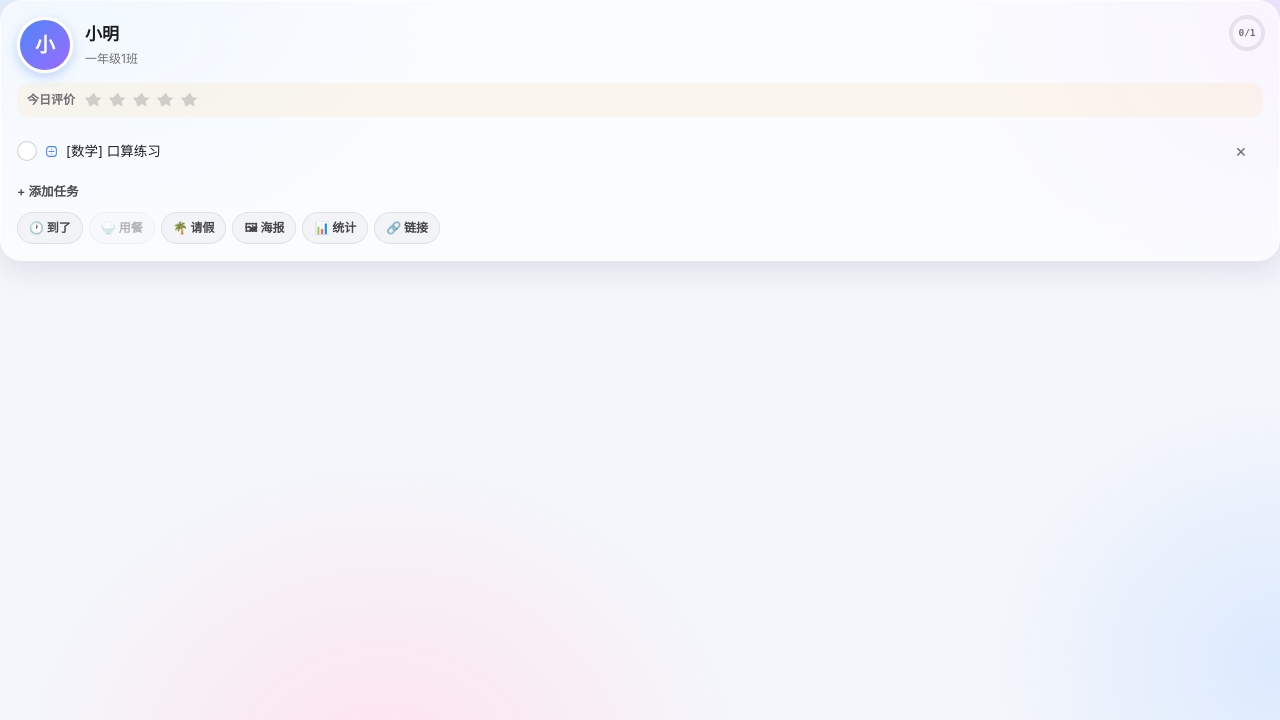
Test: StudentCard task deletion › asks for confirmation before deleting a task, and does nothing on cancel
This screenshot has width=1280, height=720.
Click the button named "删除口算练习". click: (1241, 151)
box: [1219,129,1263,173]
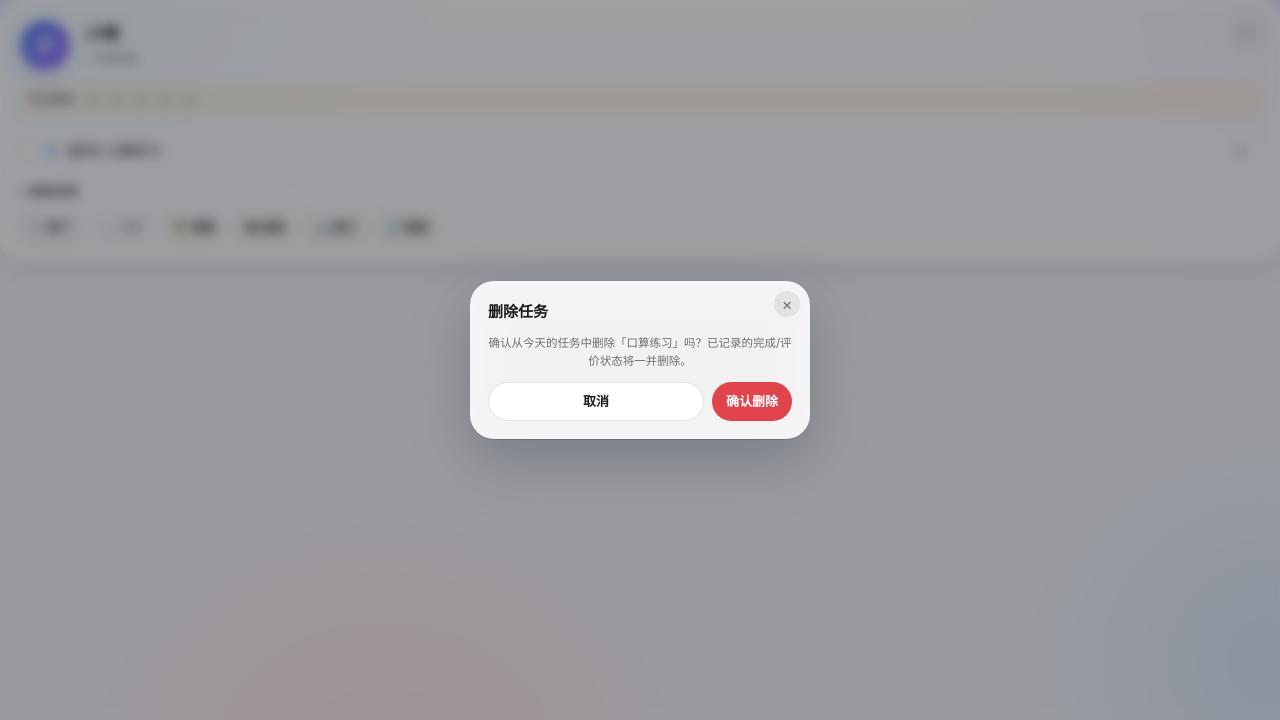
Check: the text "确认从今天的任务中删除「口算练习」吗？已记录的完成/评价状态将一并删除。" is shown, box [488,335,792,370]
Click the button "取消". click: (596, 402)
box: [488,382,704,421]
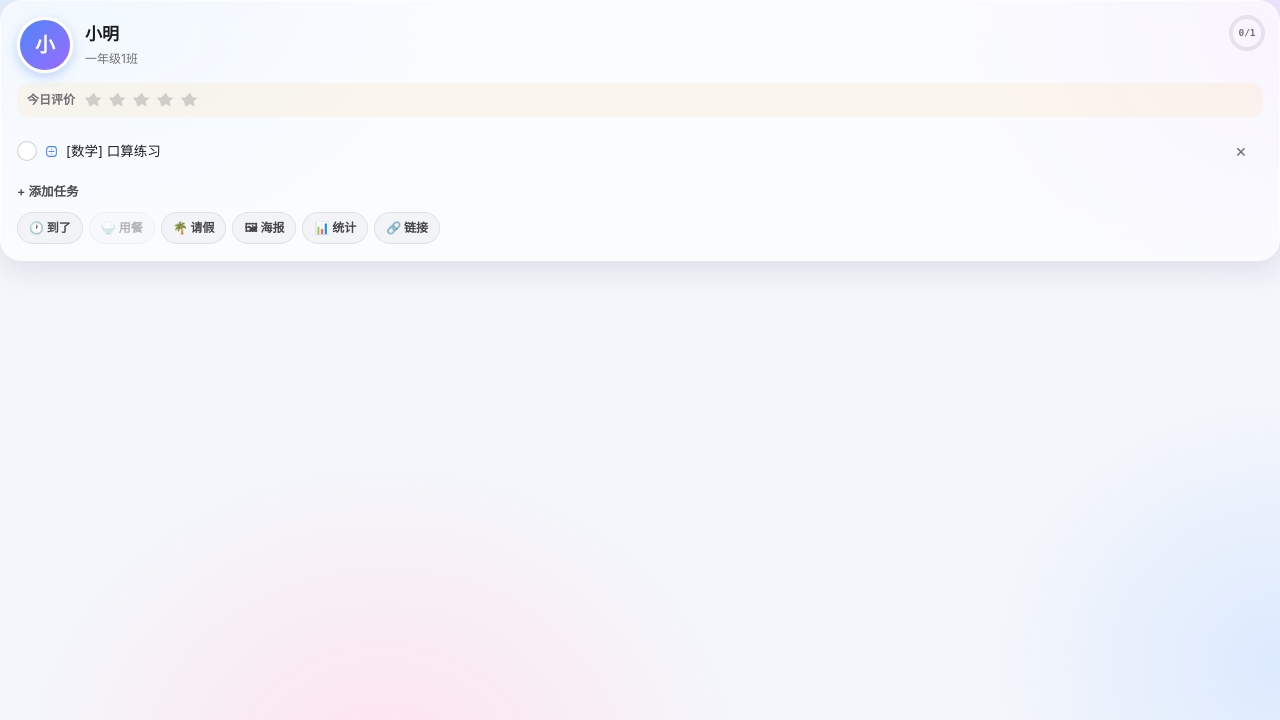
Check: the text "确认从今天的任务中删除" is gone
